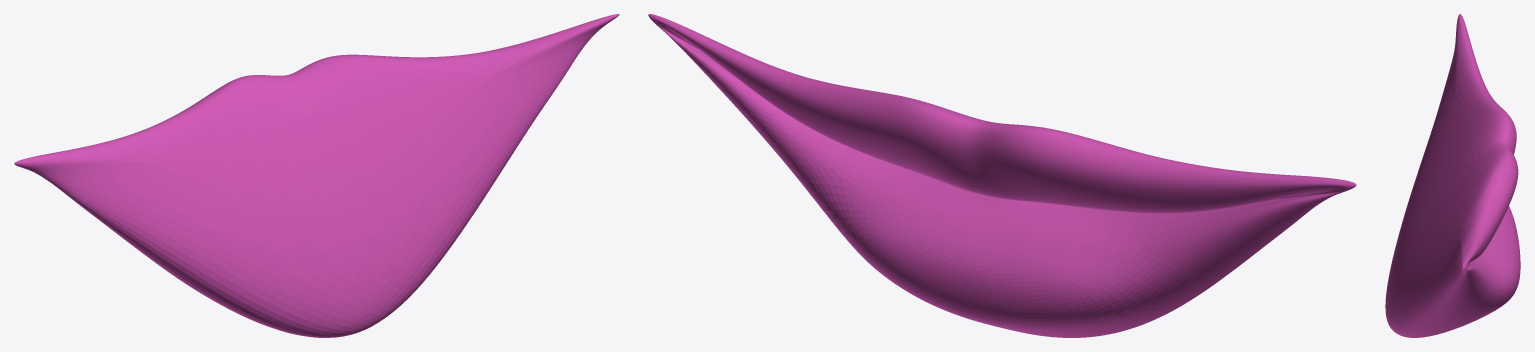
Rendered from libs.obj.
3 views of the same model, side by side, from view 1: azimuth 30°, elevation 25°; view 2: azimuth 150°, elevation 25°; view 3: azimuth 270°, elevation 25° (orthographic). The views are drawn at different scales.
Visible parts, largest first — view 1: LIPPEN.001_Cube.001; view 2: LIPPEN.001_Cube.001; view 3: LIPPEN.001_Cube.001.
Part boxes in pixels (x1,y1,x2,y2): LIPPEN.001_Cube.001: (14,14,619,337); LIPPEN.001_Cube.001: (648,14,1356,337); LIPPEN.001_Cube.001: (1385,14,1520,337).
Bounding box in the file's own units: 5.2 × 1.83 × 1.17.
